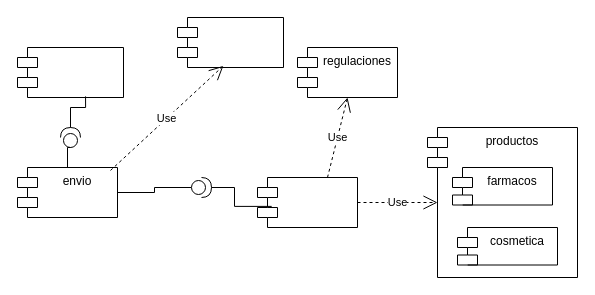
Image size: 595x295. Some labels were removed from this diagram. The centre of each missing label's shape, as x and y in pixels:
"cliente" goes at (70,72).
"sucursal" goes at (230,42).
"venta" goes at (307,202).
